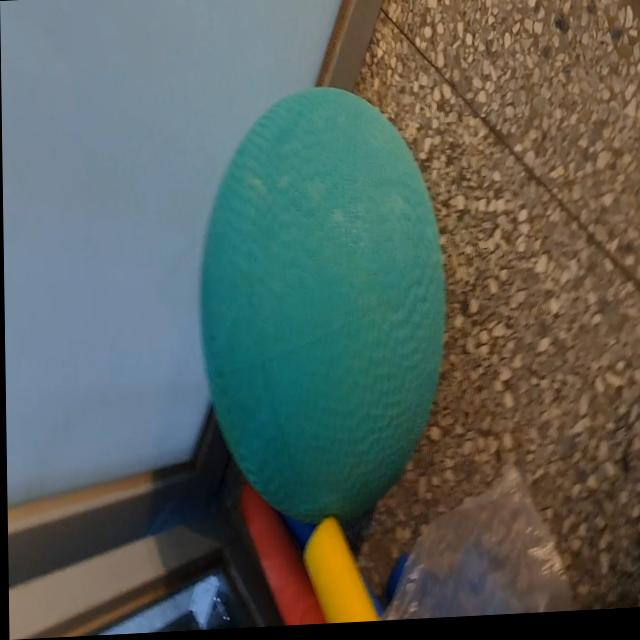ALGAE: (188, 65, 453, 541)
